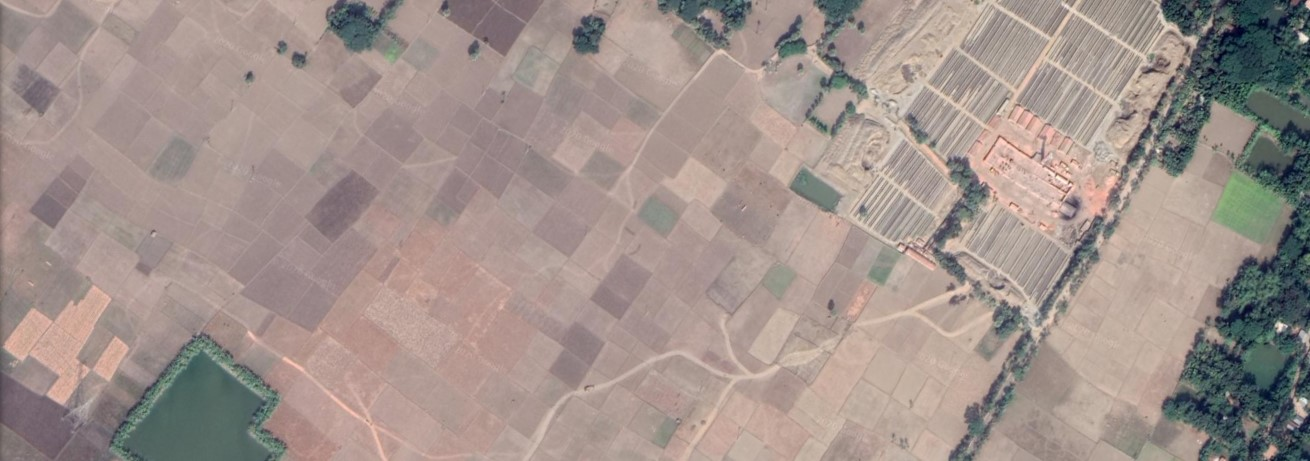kiln: (976, 119, 1078, 207)
